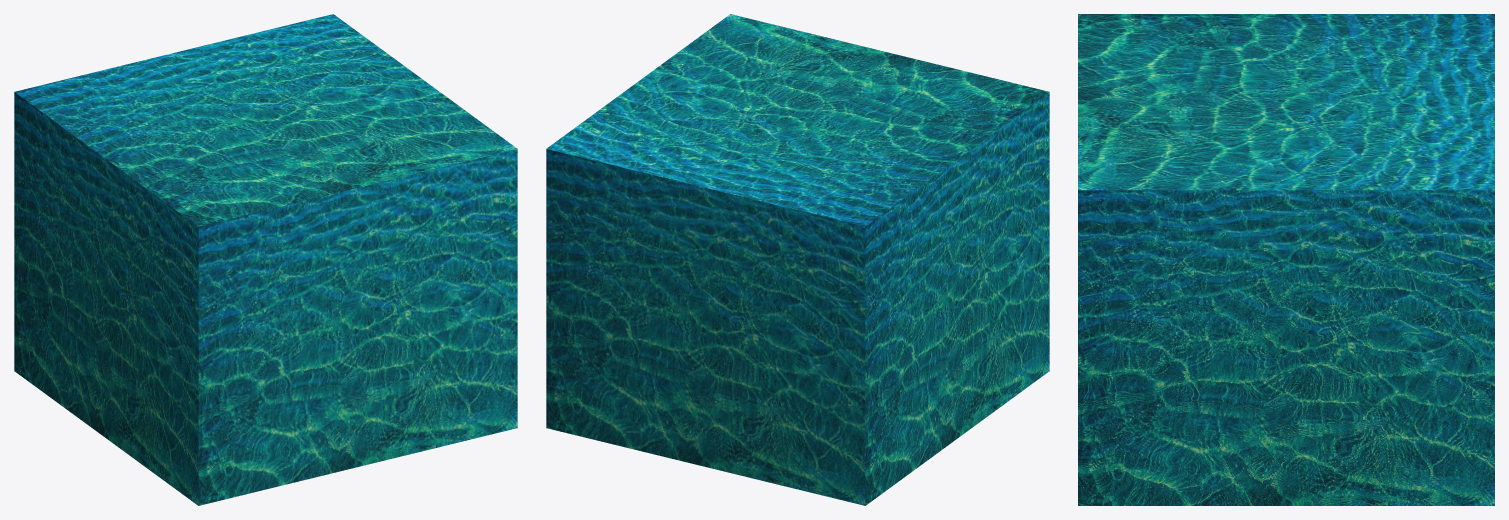
3 renders of one model, left to right at view 1: azimuth 30°, elevation 25°; view 2: azimuth 150°, elevation 25°; view 3: azimuth 270°, elevation 25°, orthographic. The views are drawn at different scales.
Visible parts, largest first — view 1: Cube95; view 2: Cube95; view 3: Cube95.
Part boxes in pixels (box(x1,y1,x2,y2)): Cube95: box(14, 14, 517, 505); Cube95: box(546, 14, 1049, 505); Cube95: box(1078, 14, 1494, 505).
Bounding box in the file's own units: 0.2755 × 0.2303 × 0.2755.
Materials: 1 (1 with a texture image).
